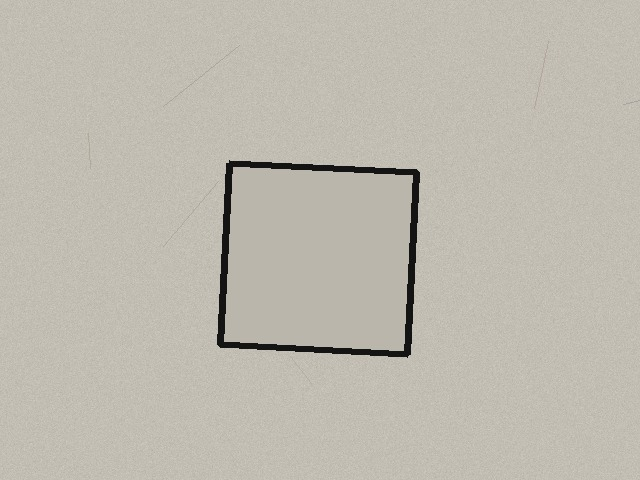parking_area: (220, 163, 416, 354)
